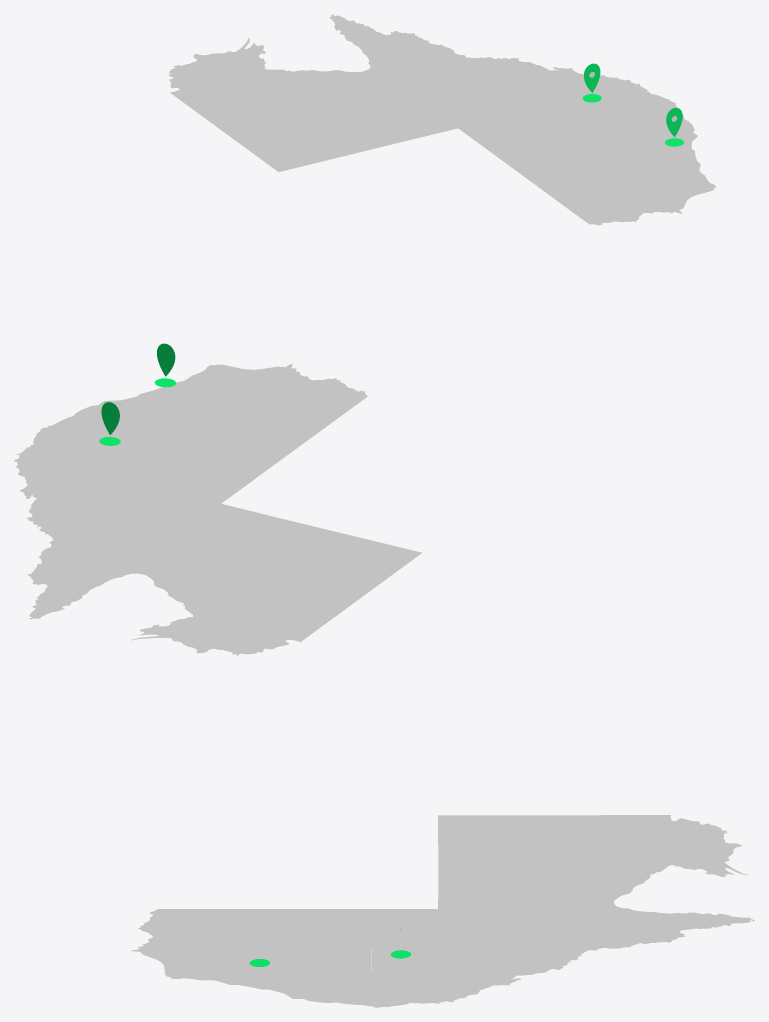
File: map_overview.glb
3 views of the same model, one above another, from view 1: azimuth 30°, elevation 25°; view 2: azimuth 150°, elevation 25°; view 3: azimuth 270°, elevation 25° (orthographic). The views are drawn at different scales.
Parts seen in each view (by area): view 1: 贝塞尔曲线.003, 贝塞尔曲线.001, 贝塞尔曲线.004, 贝塞尔曲线.005; view 2: 贝塞尔曲线.003, 贝塞尔曲线.001, 贝塞尔曲线.004, 贝塞尔曲线.005; view 3: 贝塞尔曲线.003, 贝塞尔曲线.001, 贝塞尔曲线.004, 贝塞尔曲线.005.
Boxes of the visible parts, box(x1,y1,x2,y2) form: 贝塞尔曲线.003: box(320, 14, 666, 150); 贝塞尔曲线.001: box(168, 38, 412, 171); 贝塞尔曲线.004: box(489, 99, 715, 193); 贝塞尔曲线.005: box(544, 181, 715, 225); 贝塞尔曲线.003: box(14, 434, 271, 619); 贝塞尔曲线.001: box(131, 516, 421, 655); 贝塞尔曲线.004: box(36, 365, 316, 478); 贝塞尔曲线.005: box(210, 364, 367, 433); 贝塞尔曲线.003: box(368, 885, 754, 1006); 贝塞尔曲线.001: box(438, 815, 748, 885); 贝塞尔曲线.004: box(172, 909, 390, 1007); 贝塞尔曲线.005: box(131, 909, 254, 978).
Bounding box in the file's own units: 73.52 × 5.67 × 72.4.
